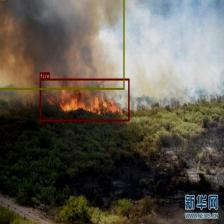fire: (39, 78, 129, 121)
smoke: (0, 0, 124, 89)
